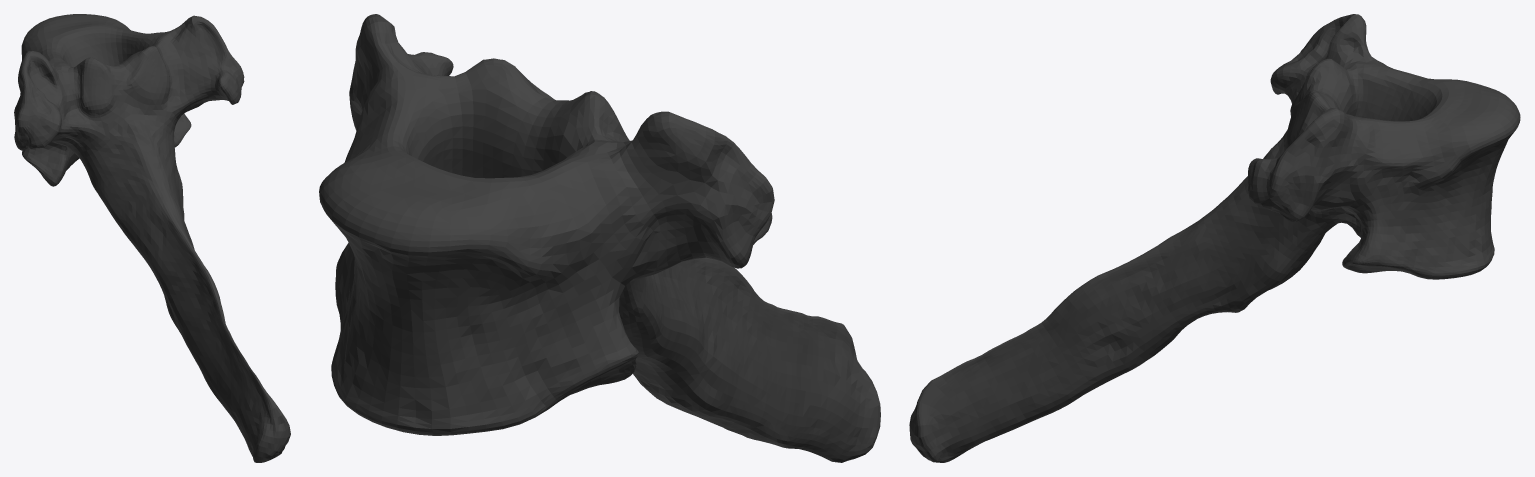
3 renders of one model, left to right at view 1: azimuth 30°, elevation 25°; view 2: azimuth 150°, elevation 25°; view 3: azimuth 270°, elevation 25°, orthographic. The views are drawn at different scales.
Parts seen in each view (by area): view 1: t7_low; view 2: t7_low; view 3: t7_low.
Part boxes in pixels (bbox=[...]): t7_low: bbox=[14, 14, 290, 462]; t7_low: bbox=[319, 14, 880, 462]; t7_low: bbox=[909, 14, 1520, 462].
Size of the model in its own units: 35.84 by 49.76 by 68.04.
Materials: 1 (1 with a texture image).
